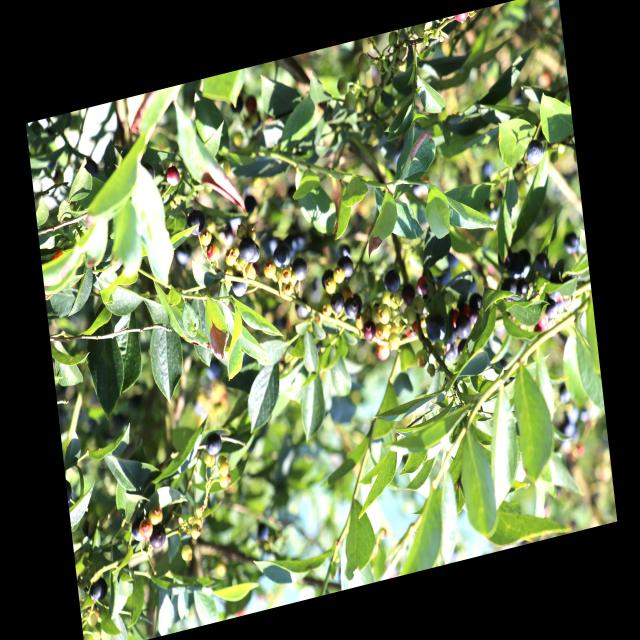blueberry: (380, 264, 403, 297), (238, 234, 261, 266), (424, 312, 447, 343), (524, 136, 546, 168), (185, 208, 208, 238), (453, 312, 473, 342), (335, 253, 355, 281), (272, 242, 292, 270), (148, 523, 168, 551), (204, 430, 223, 458), (89, 576, 109, 602), (164, 161, 181, 190), (400, 282, 417, 310), (500, 277, 518, 303), (466, 290, 484, 316), (329, 290, 346, 317), (291, 255, 308, 282), (533, 250, 550, 276), (294, 295, 311, 321), (230, 276, 249, 299), (175, 241, 192, 266), (343, 295, 359, 321), (319, 266, 335, 292), (556, 381, 572, 406), (562, 232, 579, 254), (130, 518, 143, 544), (543, 301, 559, 320)
blueberry-halfripe: (204, 240, 222, 265), (374, 342, 390, 364), (138, 518, 154, 540), (414, 277, 429, 297), (404, 324, 418, 341)
blueberry-unripe: (377, 302, 392, 327), (386, 332, 402, 354), (198, 226, 214, 248), (148, 505, 164, 527), (412, 294, 426, 316), (403, 304, 417, 326), (263, 260, 277, 282), (179, 542, 194, 562), (319, 298, 333, 318), (243, 264, 257, 284), (332, 267, 346, 286), (225, 248, 238, 268), (189, 524, 203, 542), (217, 459, 230, 478), (218, 472, 230, 492), (324, 277, 337, 295), (376, 323, 388, 342), (192, 501, 204, 520), (203, 451, 215, 468), (355, 313, 366, 331), (283, 281, 294, 299)
